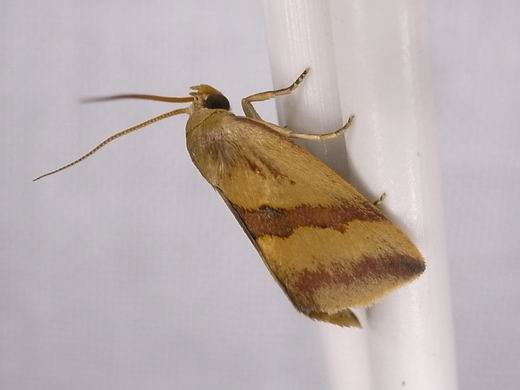Noctuidae: (30, 67, 427, 335)
